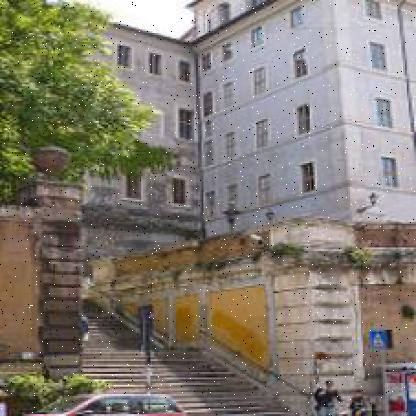stair_up: (80, 288, 296, 414)
